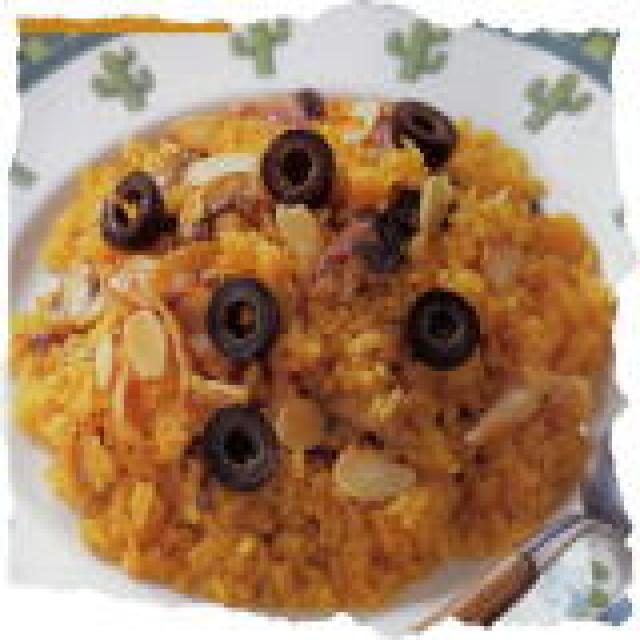米饭主食: (32, 70, 600, 598)
